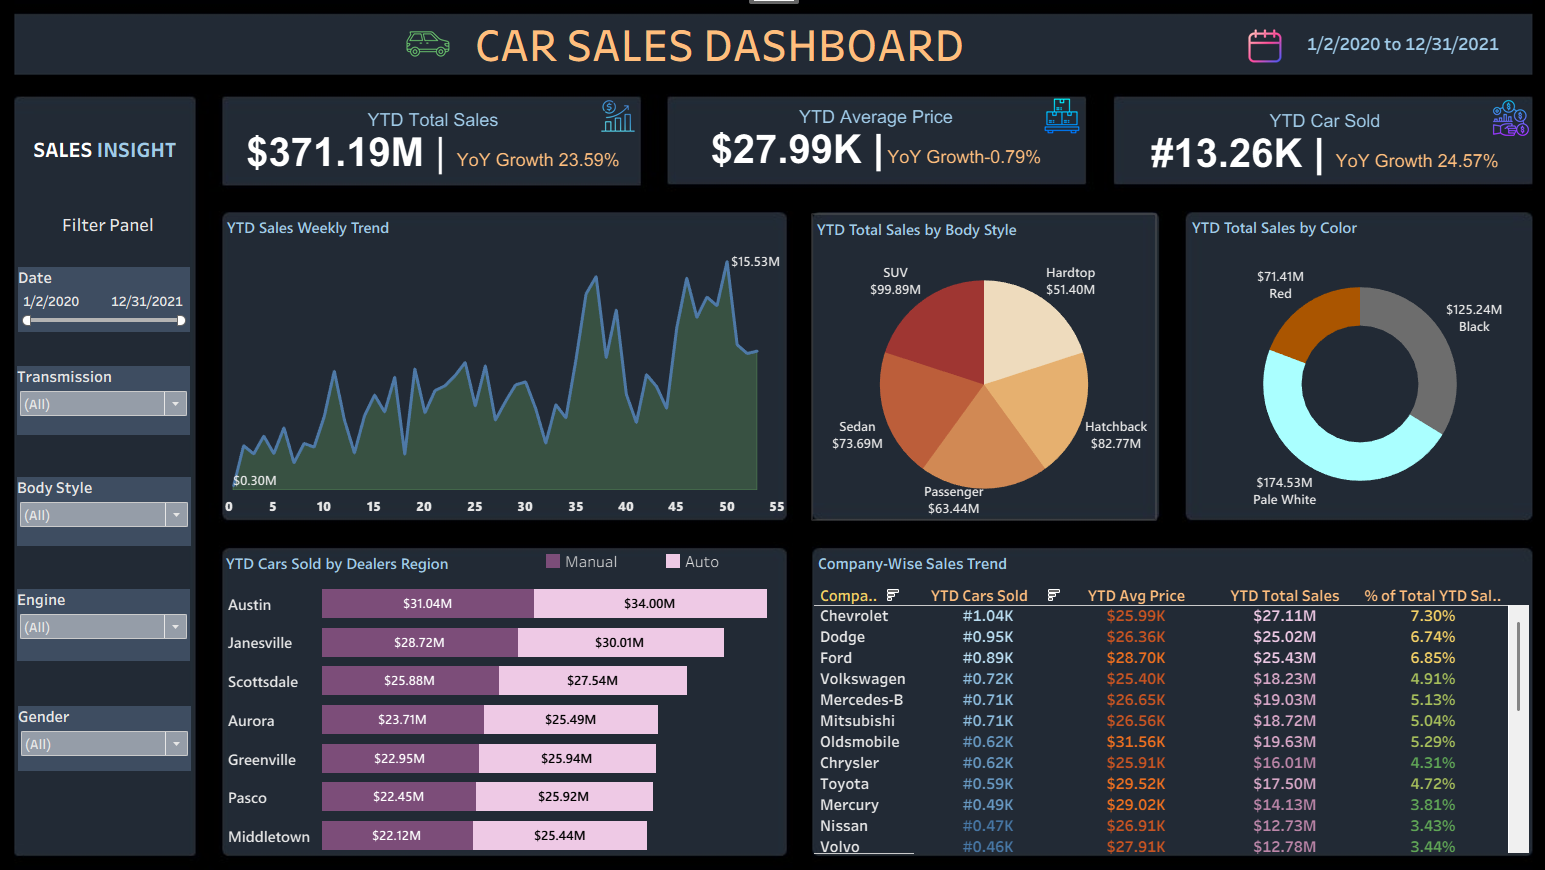

The dashboard page shown, as its layout file describes it:
{"tool":"tableau","page":{"name":"Dashboard 1","canvas":[1600,900],"ordinal":0},"visuals":[{"type":"image","param":"C:/Users/Chamika/Desktop/DS Projects/Car Sales Tableau Dashboard/Car Sales Backg","box":[8,8,1584,884]},{"type":"text","box":[497,29,497,59]},{"type":"image","param":"C:/Users/Chamika/Downloads/Images Used-20260710T140321Z-2-001/Images Used/Car Ic","box":[421,33,65,51]},{"type":"worksheet","title":"Date Range","mark":"Automatic","box":[1302,35,240,49]},{"type":"image","param":"C:/Users/Chamika/Downloads/Images Used-20260710T140321Z-2-001/Images Used/calend","box":[1268,40,43,37]},{"type":"image","param":"C:/Users/Chamika/Downloads/Images Used-20260710T140321Z-2-001/Images Used/Sales ","box":[622,112,43,37]},{"type":"worksheet","title":"YTD AVG Price","mark":"Automatic","box":[693,112,417,86]},{"type":"image","param":"C:/Users/Chamika/Downloads/Images Used-20260710T140321Z-2-001/Images Used/Avg Pr","box":[1066,112,43,37]},{"type":"worksheet","title":"YTD Car Sold","mark":"Automatic","box":[1141,113,419,91]},{"type":"worksheet","title":"YTD Total Sales","mark":"Automatic","box":[250,114,417,87]},{"type":"image","param":"C:/Users/Chamika/Downloads/Images Used-20260710T140321Z-2-001/Images Used/Cars S","box":[1515,114,43,37]},{"type":"text","box":[56,149,150,30]},{"type":"text","box":[59,224,150,30]},{"type":"worksheet","title":"YTD Sales Weekly Trend","mark":"Area","rows":["Calculation_0494526961999872","Calculation_0494526961999872"],"cols":["Date"],"box":[249,228,564,307]},{"type":"worksheet","title":"YTD Total Sales by Color","mark":"Pie","rows":["Calculation_0494527105634314","Calculation_0494527105671180"],"box":[1214,228,344,307]},{"type":"worksheet","title":"YTD Total Sales by Body Style","mark":"Pie","box":[839,230,342,304]},{"type":"filter","title":"YTD Sales Weekly Trend","param":"[federated.12583ac114s6gj1ge802z1gaqkpz].[none:Date:qk]","box":[44,282,172,65]},{"type":"filter","title":"YTD Sales Weekly Trend","param":"[federated.12583ac114s6gj1ge802z1gaqkpz].[none:Transmission:nk]","box":[43,381,173,69]},{"type":"filter","title":"YTD Sales Weekly Trend","param":"[federated.12583ac114s6gj1ge802z1gaqkpz].[none:Body Style:nk]","box":[43,492,174,69]},{"type":"worksheet","title":"YTD Cars Sold by Dealers Region ","mark":"Automatic","rows":["Dealer_Region"],"cols":["Calculation_0494526961999872"],"box":[248,564,567,306]},{"type":"worksheet","title":"Company-Wise Sales Trend","mark":"Automatic","rows":["Company"],"box":[840,564,715,305]},{"type":"legend","title":"YTD Cars Sold by Dealers Region ","param":"[federated.12583ac114s6gj1ge802z1gaqkpz].[none:Transmission:nk]","box":[569,566,246,30]},{"type":"filter","title":"YTD Sales Weekly Trend","param":"[federated.12583ac114s6gj1ge802z1gaqkpz].[none:Engine:nk]","box":[43,604,173,72]},{"type":"filter","title":"YTD Sales Weekly Trend","param":"[federated.12583ac114s6gj1ge802z1gaqkpz].[none:Gender:nk]","box":[44,721,173,65]}]}

Visuals, with their boxes in screenshot pixels (x1, y1, x2, y2), scaled from the page's 1600x900 canvas onto the 1545x870 screenshot:
image: crop(8, 8, 1537, 862)
text: crop(480, 28, 960, 85)
image: crop(407, 32, 469, 81)
"Date Range" worksheet: crop(1257, 34, 1489, 81)
image: crop(1224, 39, 1266, 74)
image: crop(601, 108, 642, 144)
"YTD AVG Price" worksheet: crop(669, 108, 1072, 191)
image: crop(1029, 108, 1071, 144)
"YTD Car Sold" worksheet: crop(1102, 109, 1506, 197)
"YTD Total Sales" worksheet: crop(241, 110, 644, 194)
image: crop(1463, 110, 1504, 146)
text: crop(54, 144, 199, 173)
text: crop(57, 217, 202, 246)
"YTD Sales Weekly Trend" worksheet (Area marks): crop(240, 220, 785, 517)
"YTD Total Sales by Color" worksheet (Pie marks): crop(1172, 220, 1504, 517)
"YTD Total Sales by Body Style" worksheet (Pie marks): crop(810, 222, 1140, 516)
"YTD Sales Weekly Trend" filter: crop(42, 273, 209, 335)
"YTD Sales Weekly Trend" filter: crop(42, 368, 209, 435)
"YTD Sales Weekly Trend" filter: crop(42, 476, 210, 542)
"YTD Cars Sold by Dealers Region " worksheet: crop(239, 545, 787, 841)
"Company-Wise Sales Trend" worksheet: crop(811, 545, 1502, 840)
"YTD Cars Sold by Dealers Region " legend: crop(549, 547, 787, 576)
"YTD Sales Weekly Trend" filter: crop(42, 584, 209, 653)
"YTD Sales Weekly Trend" filter: crop(42, 697, 210, 760)
